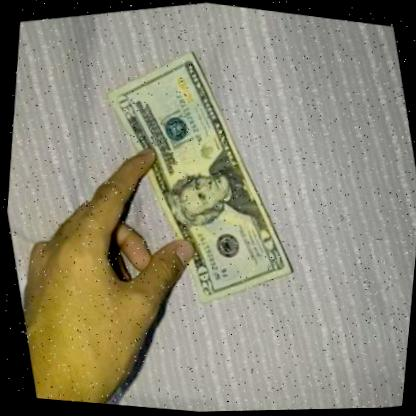twenty-front: (72, 21, 322, 331)
